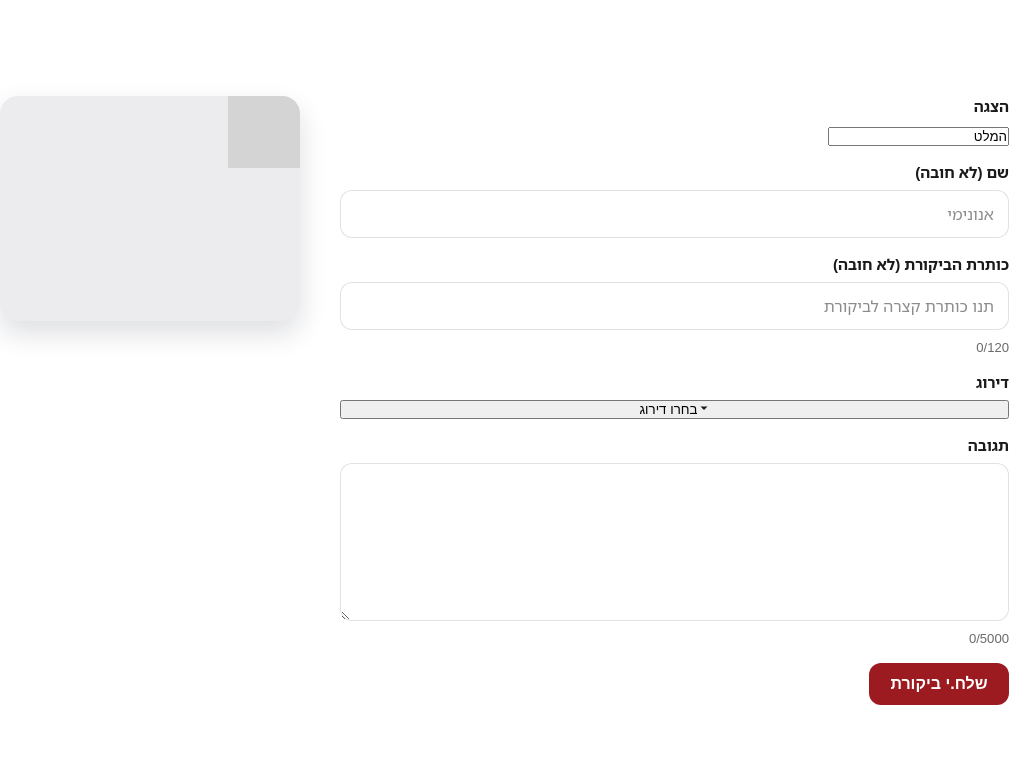
Test case: ReviewForm › updates character counter as user types
The image size is (1024, 768).
Type "test" into the field labelled "כותרת הביקורת (לא חובה) 0/120" at (674, 306), box [340, 282, 1009, 330]
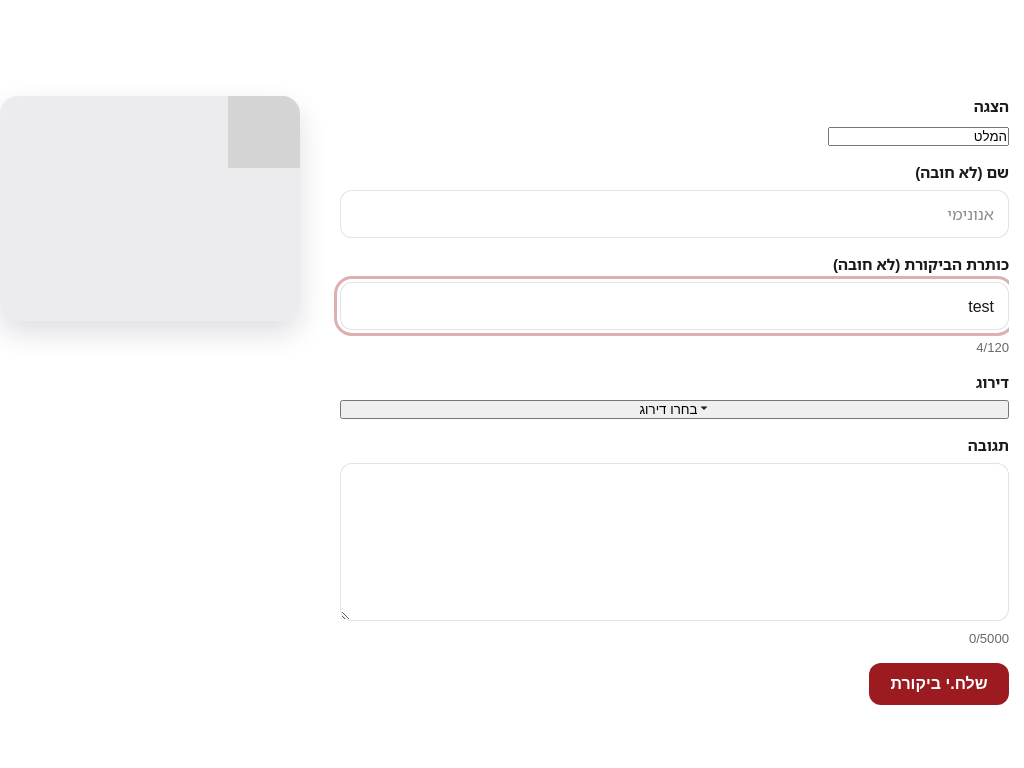
Expected: the text "4/120" is shown, [976, 338, 1009, 356]
